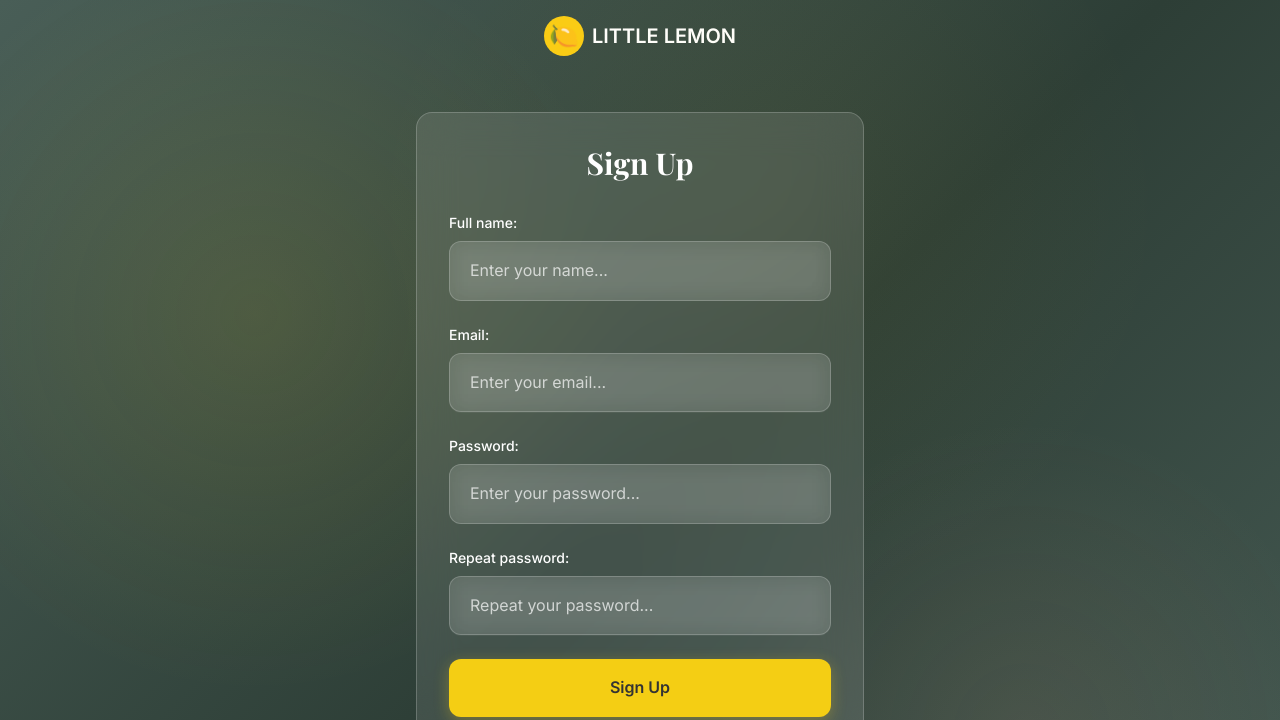
Test: SignUpForm › validates password matching
The width and height of the screenshot is (1280, 720).
Enter different passwords
Type "password123" into the password field labelled "Password:" at coordinates (640, 494), box [449,464,831,524]
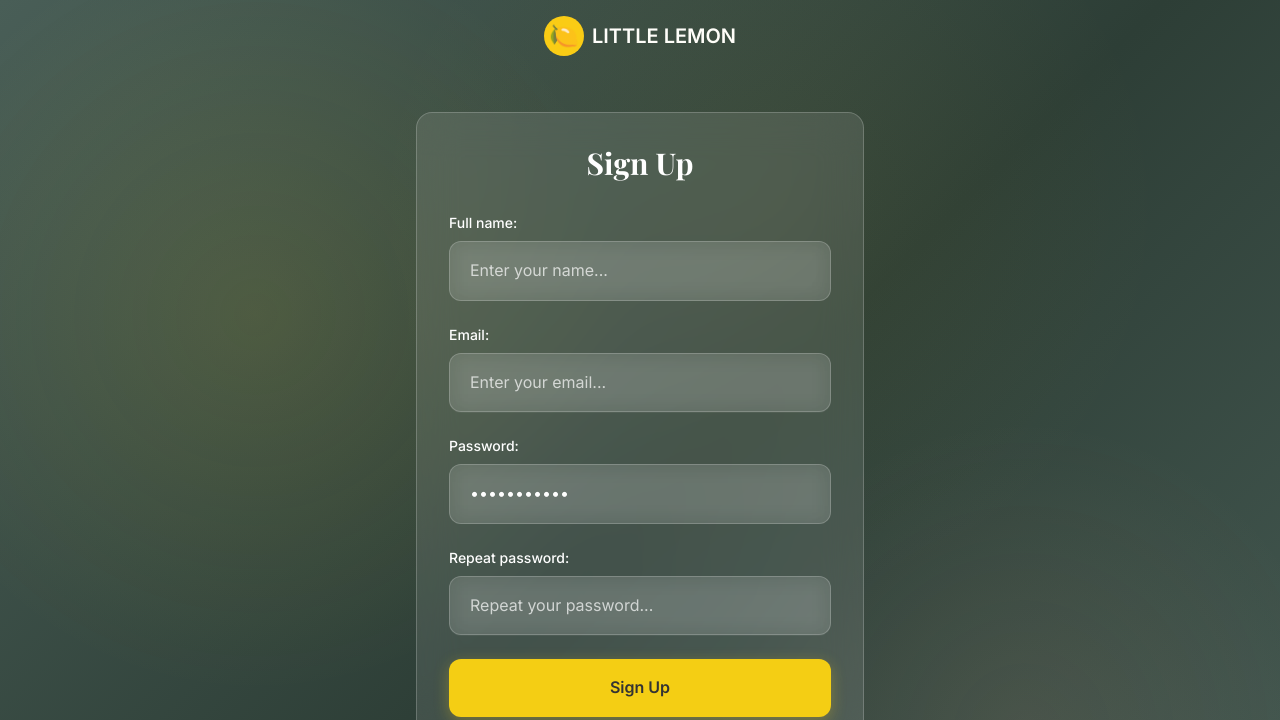
Type "password456" into the password field labelled "Repeat password:" at coordinates (640, 606), box [449,576,831,635]
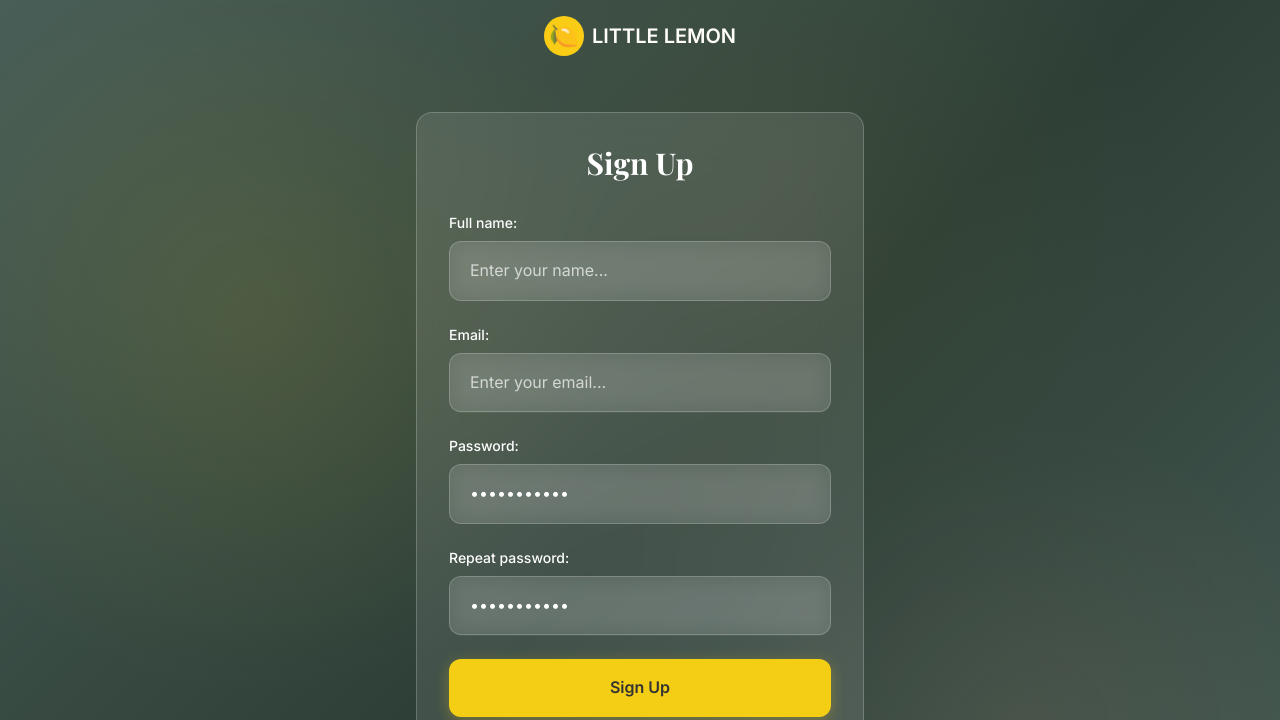
Submit form
Click the button "Sign Up" at coordinates (640, 688), box [449,659,831,717]
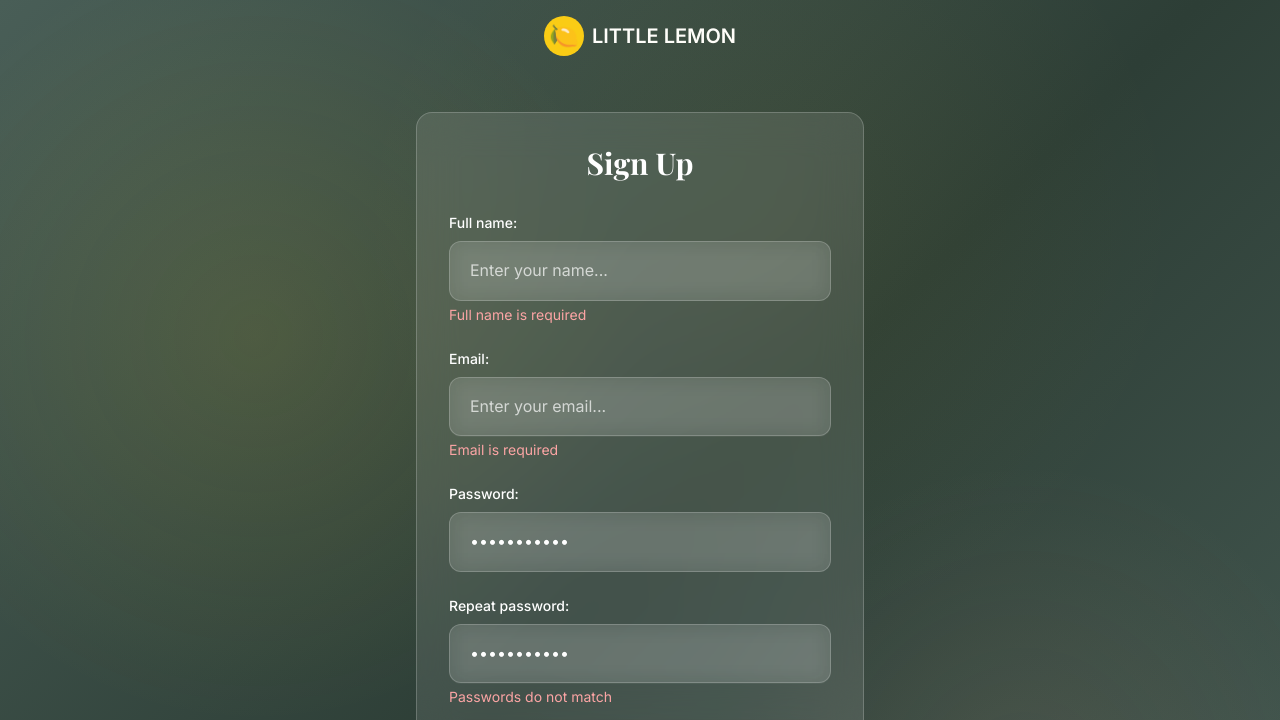
Expected: the text "Passwords do not match" is shown, [449,688,612,705]
